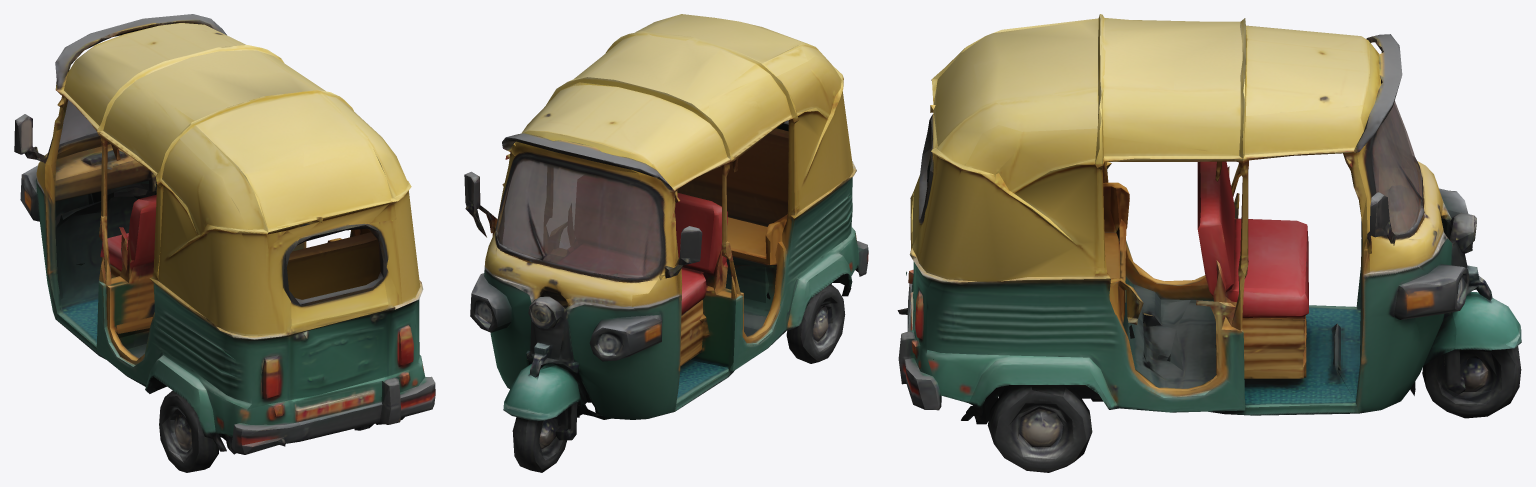
File: st_auto.glb
3 views of the same model, side by side, from view 1: azimuth 30°, elevation 25°; view 2: azimuth 150°, elevation 25°; view 3: azimuth 270°, elevation 25° (orthographic). The views are drawn at different scales.
Visible parts, largest first — view 1: Autorickshaw_Autorickshaw_0; view 2: Autorickshaw_Autorickshaw_0; view 3: Autorickshaw_Autorickshaw_0.
Part boxes in pixels (x1,y1,x2,y2): Autorickshaw_Autorickshaw_0: (14, 14, 435, 472); Autorickshaw_Autorickshaw_0: (464, 14, 868, 472); Autorickshaw_Autorickshaw_0: (897, 14, 1521, 472).
Size of the model in its own units: 1.28 by 1.63 by 2.47.
1 material, 1 textured.
